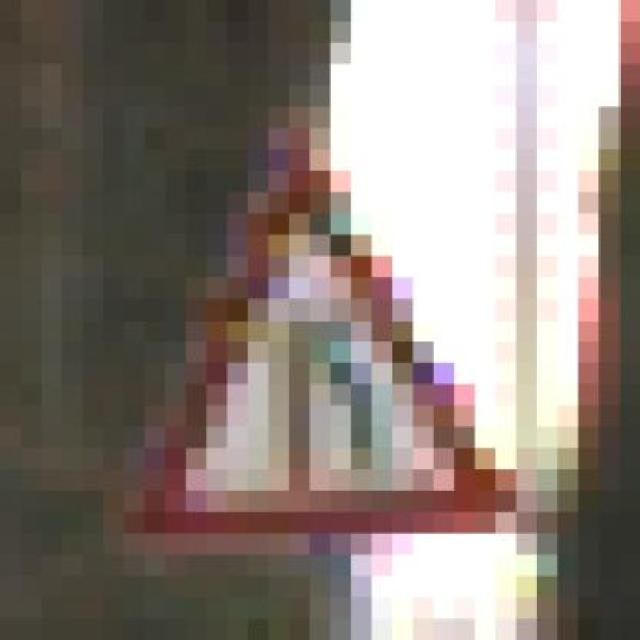-Road narrows on right: (123, 128, 537, 555)
